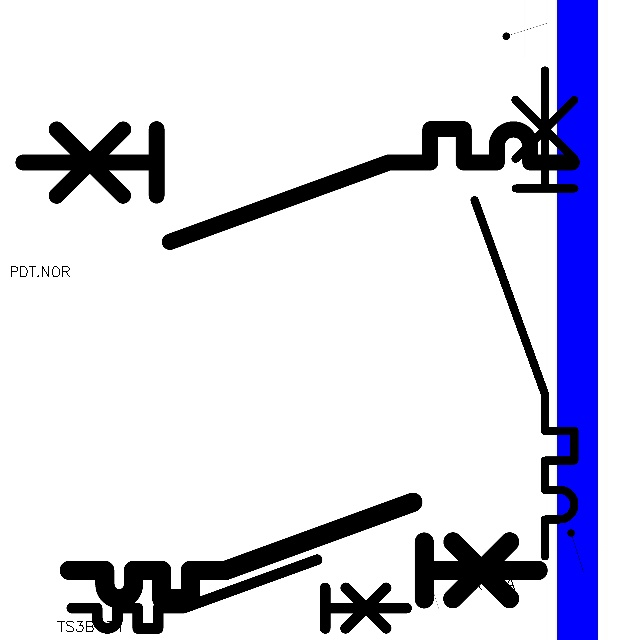interruptor_termomagnetico: (9, 115, 586, 256), (462, 57, 587, 568), (57, 490, 550, 611), (63, 551, 415, 637)
